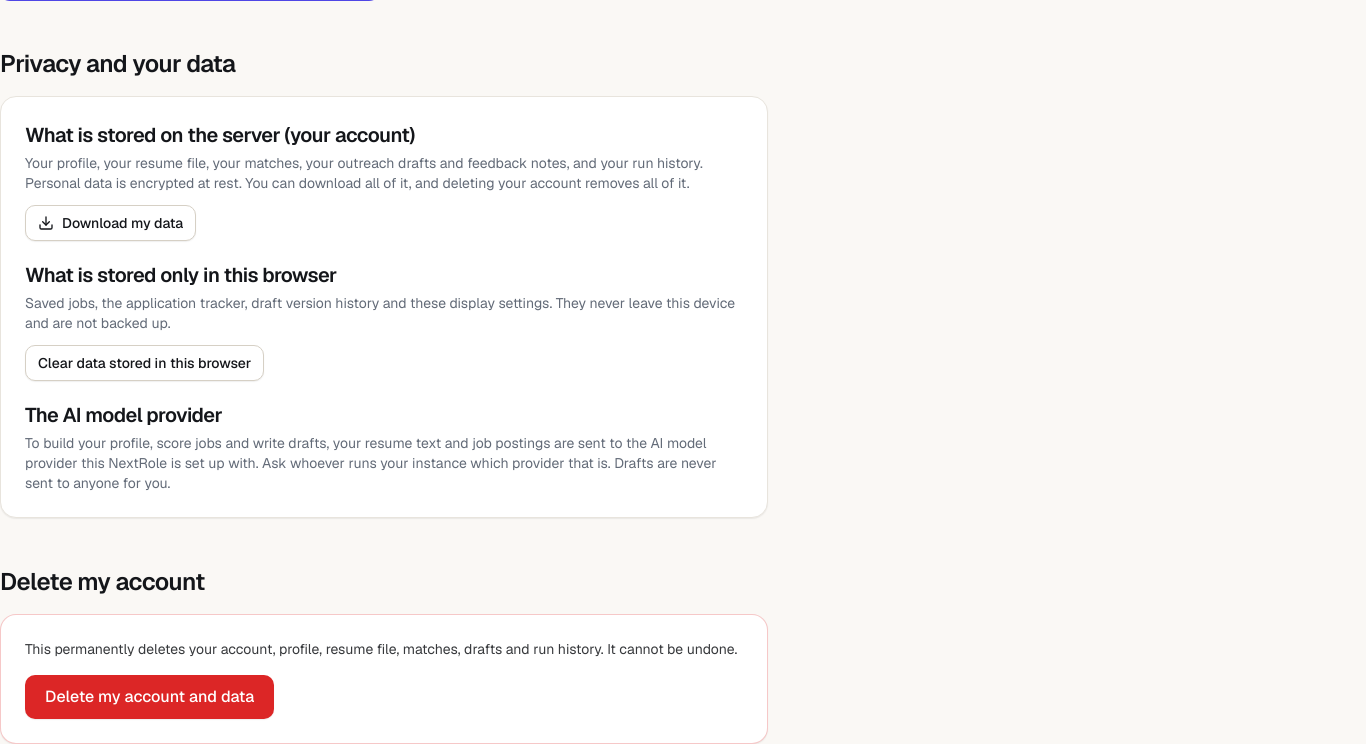
Test: Settings › only deletes the account once the confirmation word is typed
(page scrolled)
Click the button "Delete my account and data": (150, 697) [25,675,274,719]
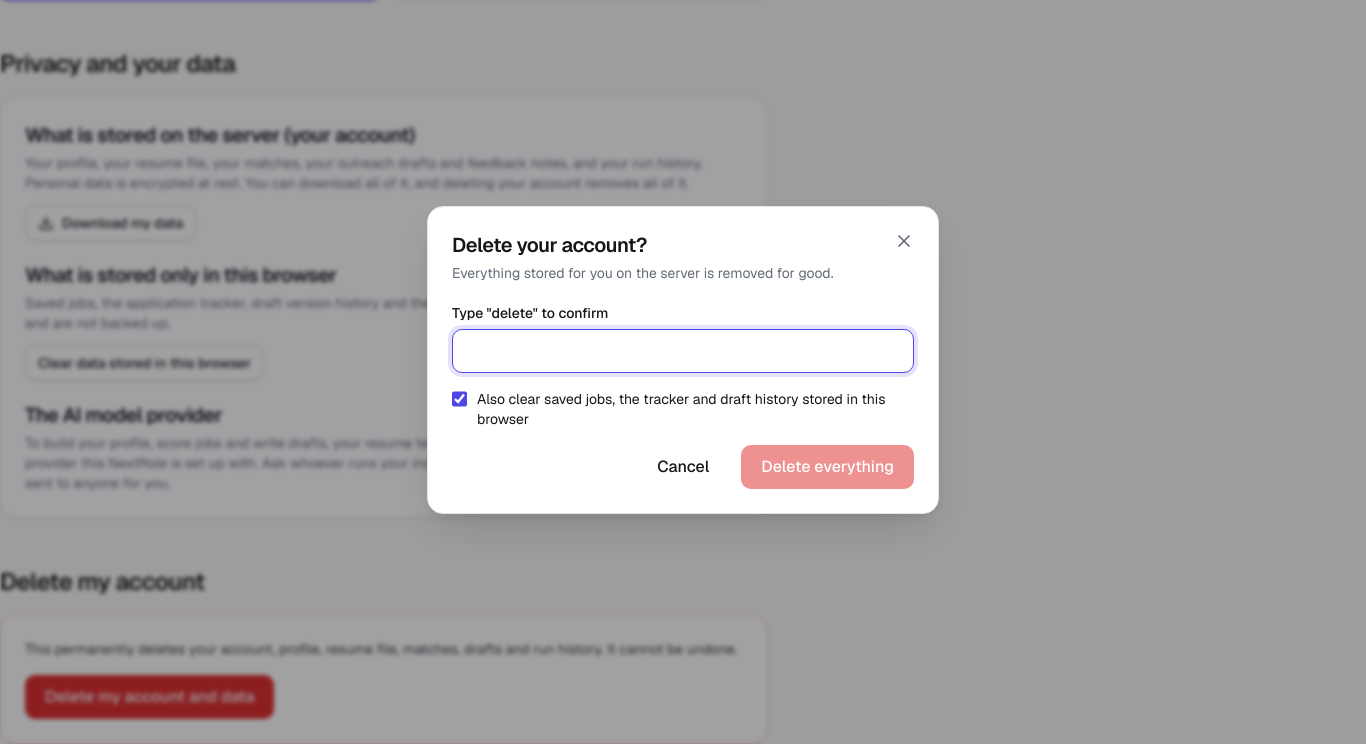
Expected: the button "Delete everything" is disabled, [741,445,914,489]
In the field labelled "Type \"delete\" to confirm": (683, 351) [452,329,914,373], type "delet"
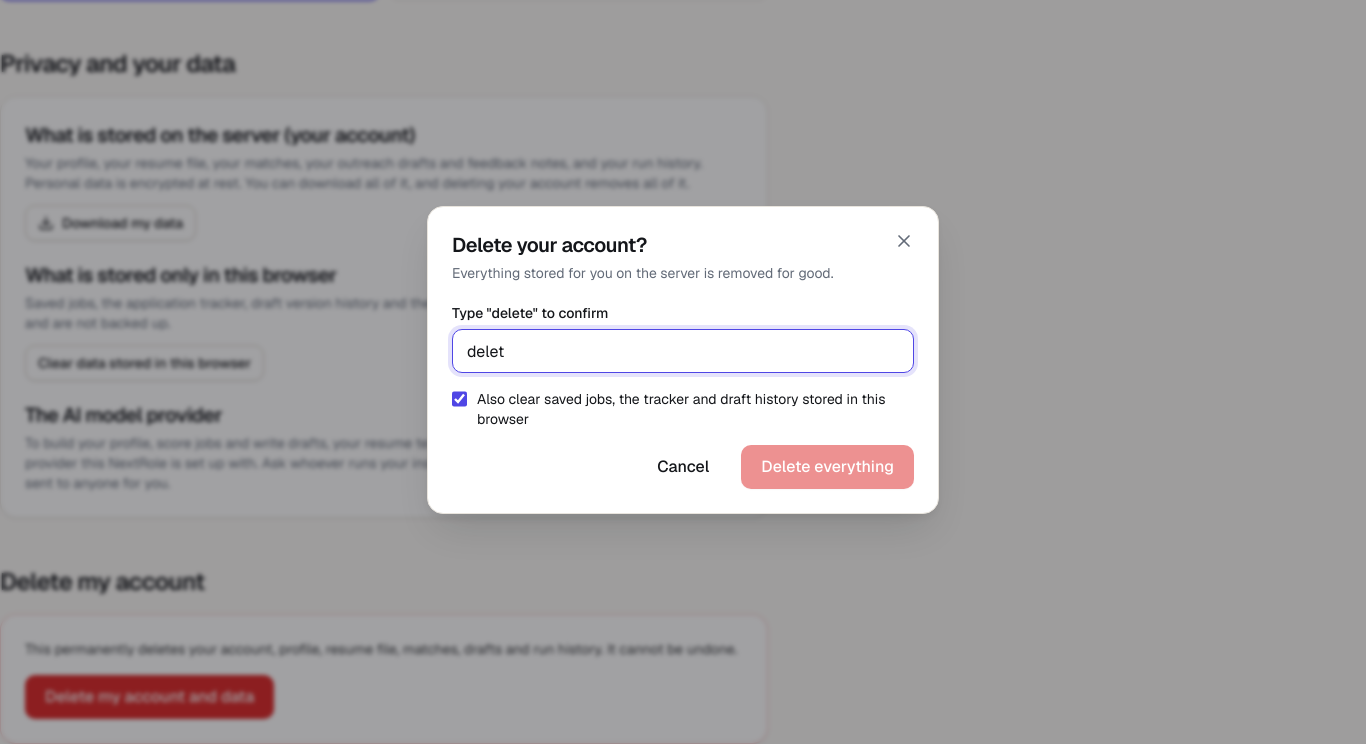
Expected: the button "Delete everything" is disabled, [741,445,914,489]
In the field labelled "Type \"delete\" to confirm": (683, 351) [452,329,914,373], type "e"
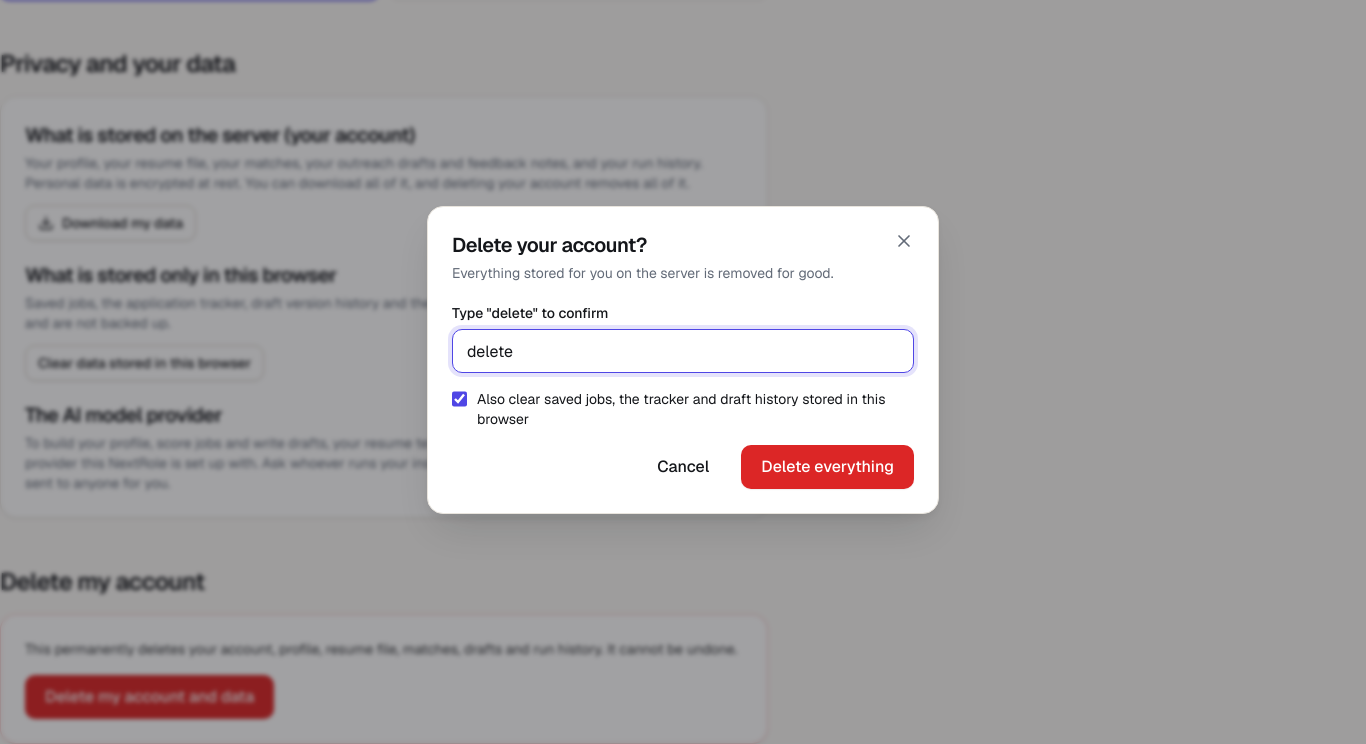
Expected: the button "Delete everything" is enabled, [741,445,914,489]
